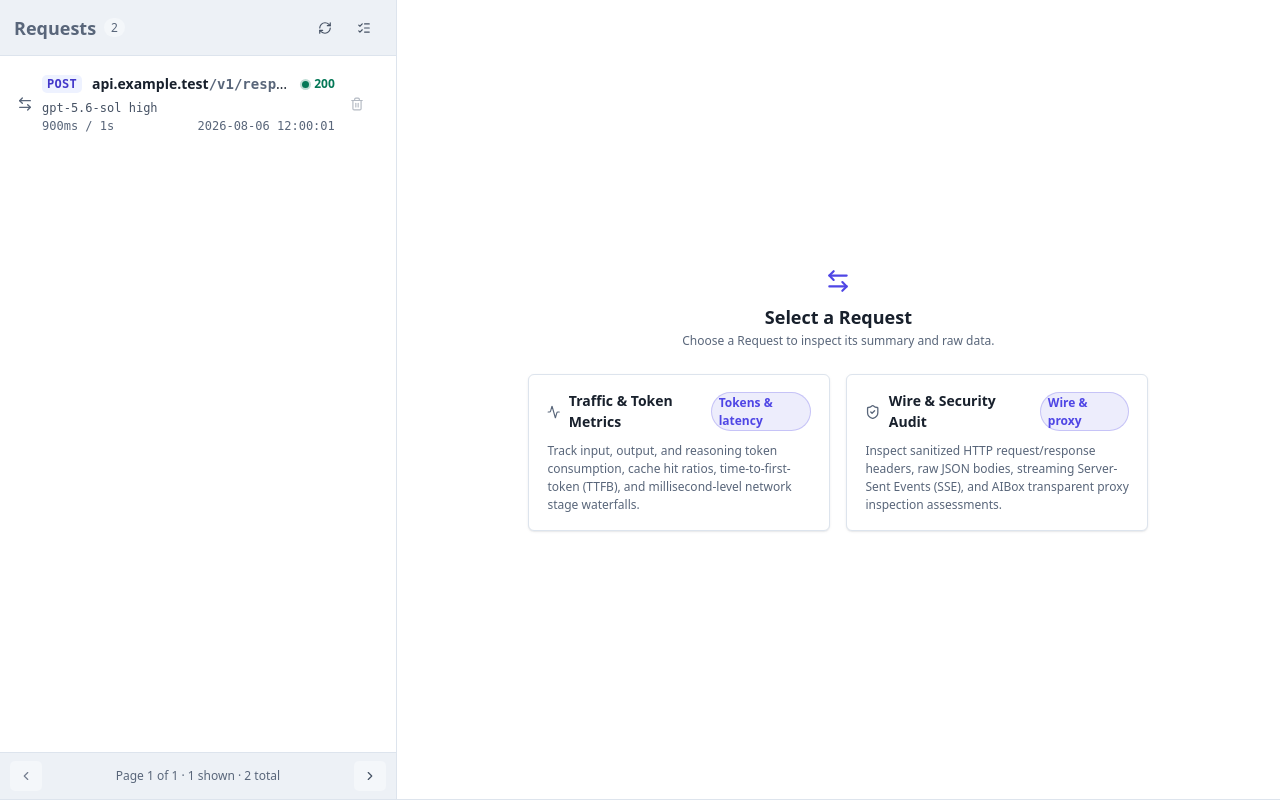
Test case: Requests page selection and deletion › returns to the previous page when immediate deletion empties the current page
Click the button named "Next": (370,776) x1=354 y1=761 x2=386 y2=791
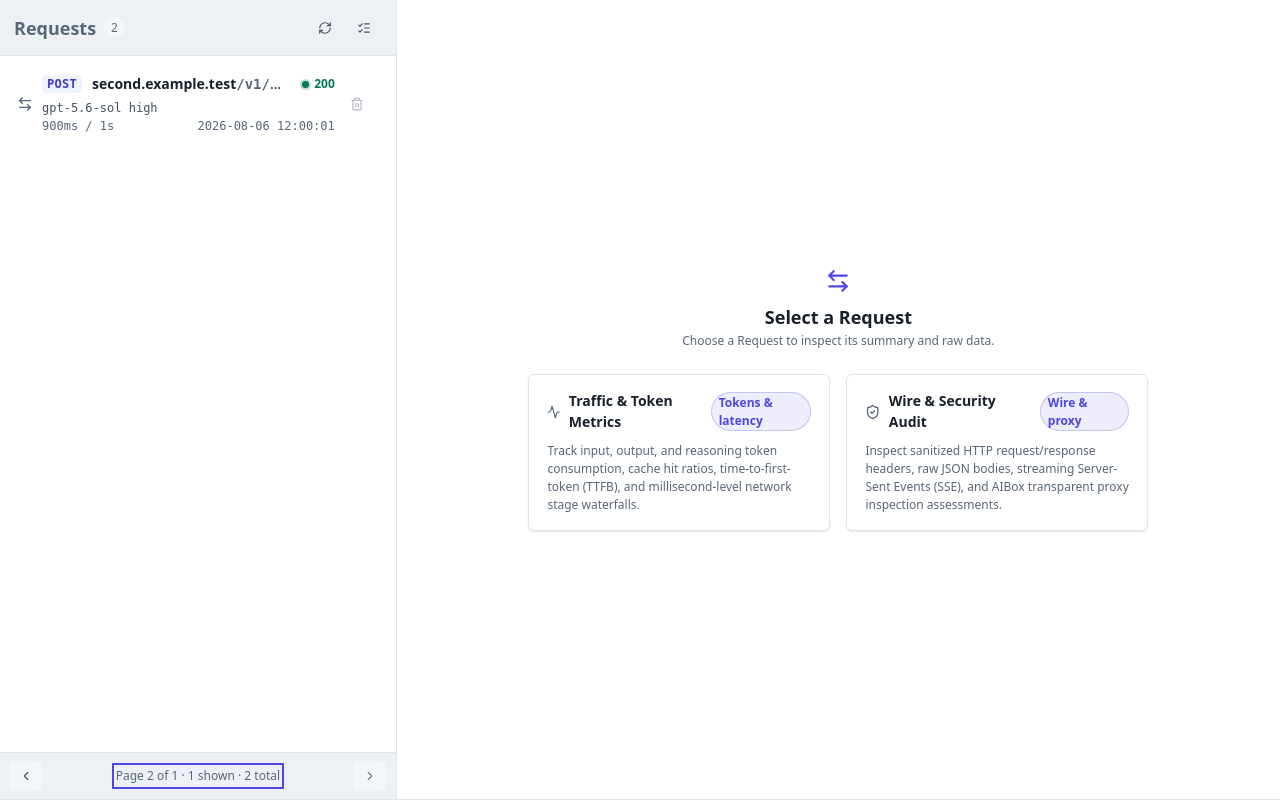
Click the button named "Delete POST second.example.test/v1/responses": (357,104) x1=339 y1=86 x2=375 y2=122
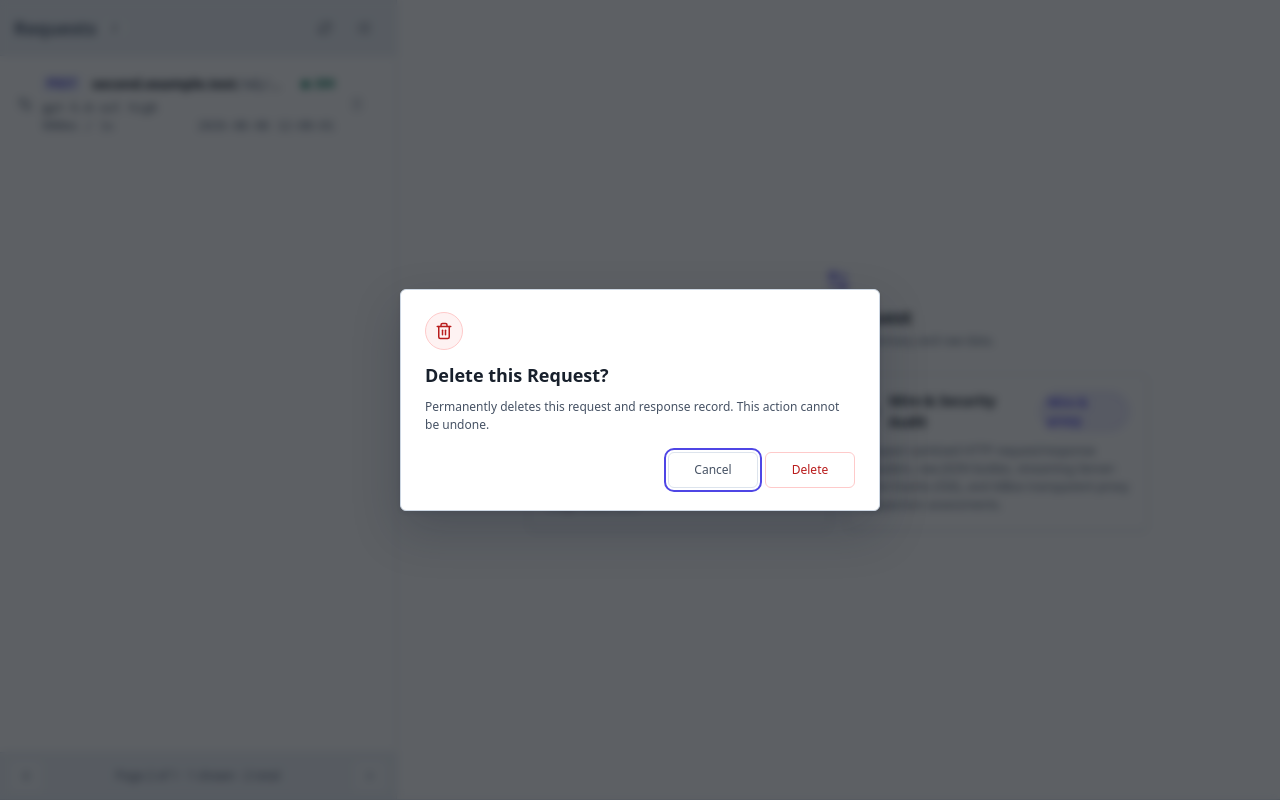
expect the dialog "Delete this Request?" is shown: met, box x1=400 y1=289 x2=880 y2=511
Click the button "Delete": (810,470) x1=765 y1=452 x2=855 y2=488
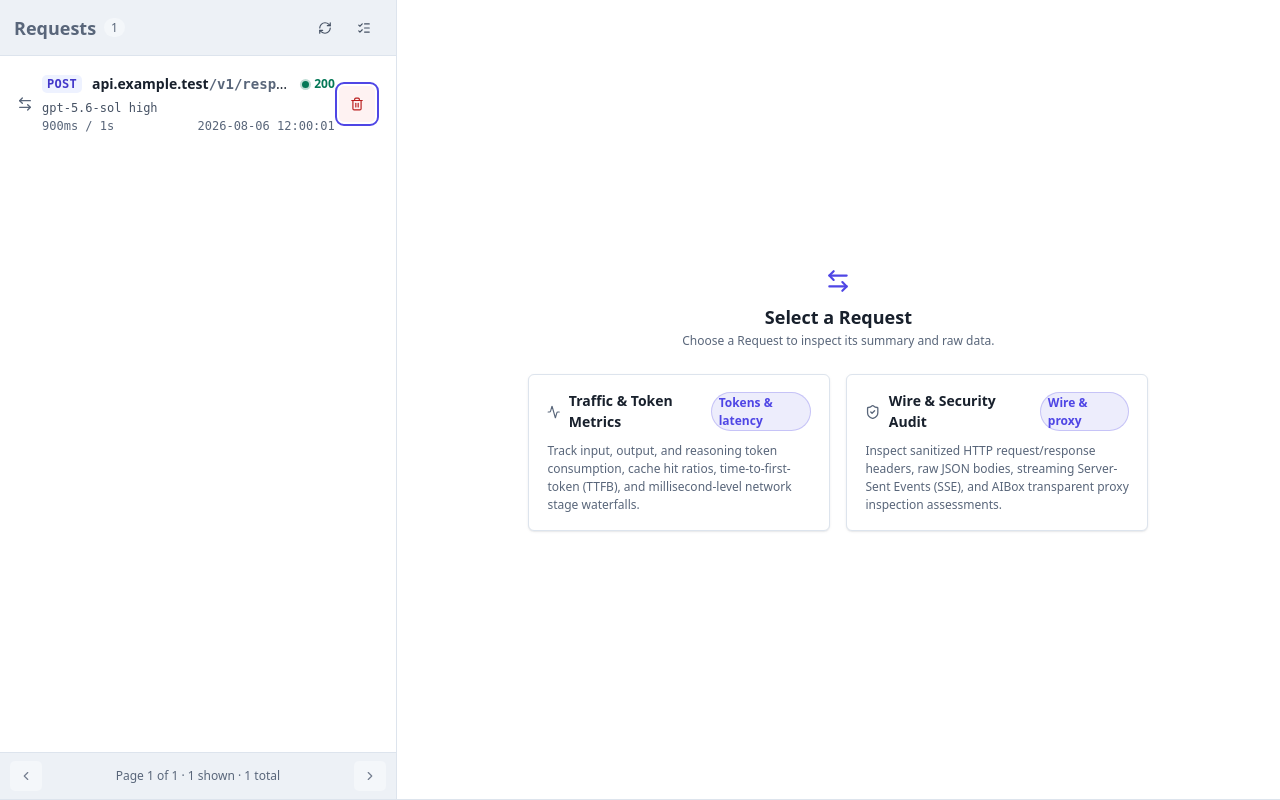
expect the text "Page 1 of 1 · 1 shown · 1 total" is shown: met, box x1=116 y1=767 x2=280 y2=785
